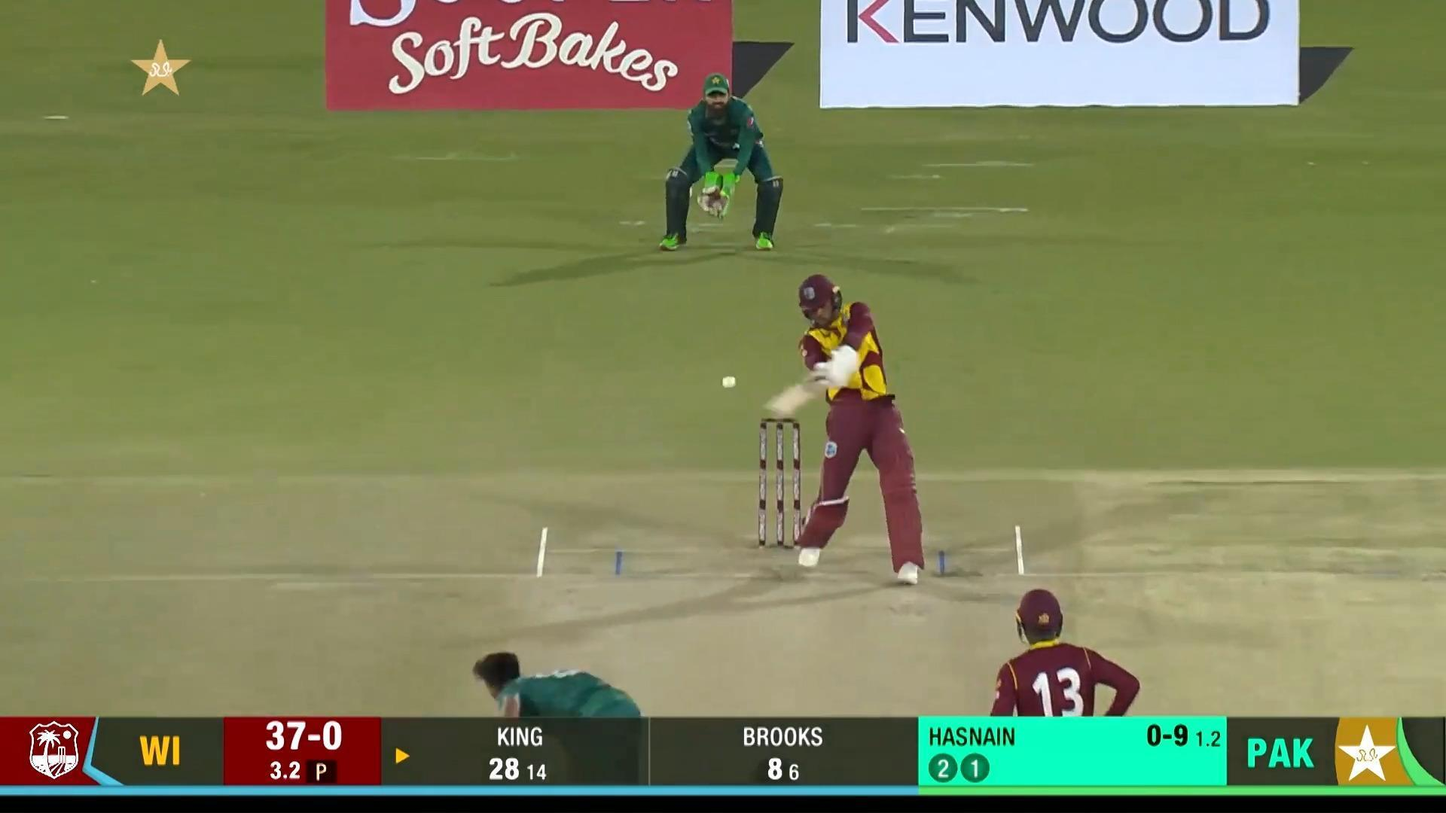BM 1: (763, 273, 927, 588)
BO: (470, 649, 649, 813)
